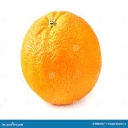orange: (19, 10, 104, 107)
